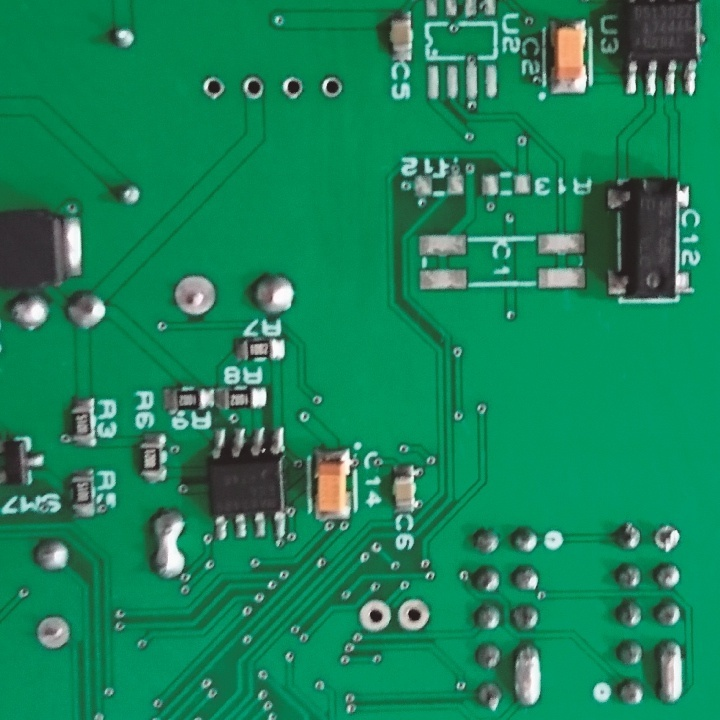F: (171, 271, 216, 321), (396, 595, 432, 636), (355, 595, 392, 633), (36, 612, 70, 651), (650, 520, 684, 558), (198, 72, 224, 101), (279, 74, 304, 101), (240, 75, 266, 100), (319, 73, 343, 100)
P: (147, 506, 187, 582), (655, 635, 688, 706), (511, 642, 544, 708)
